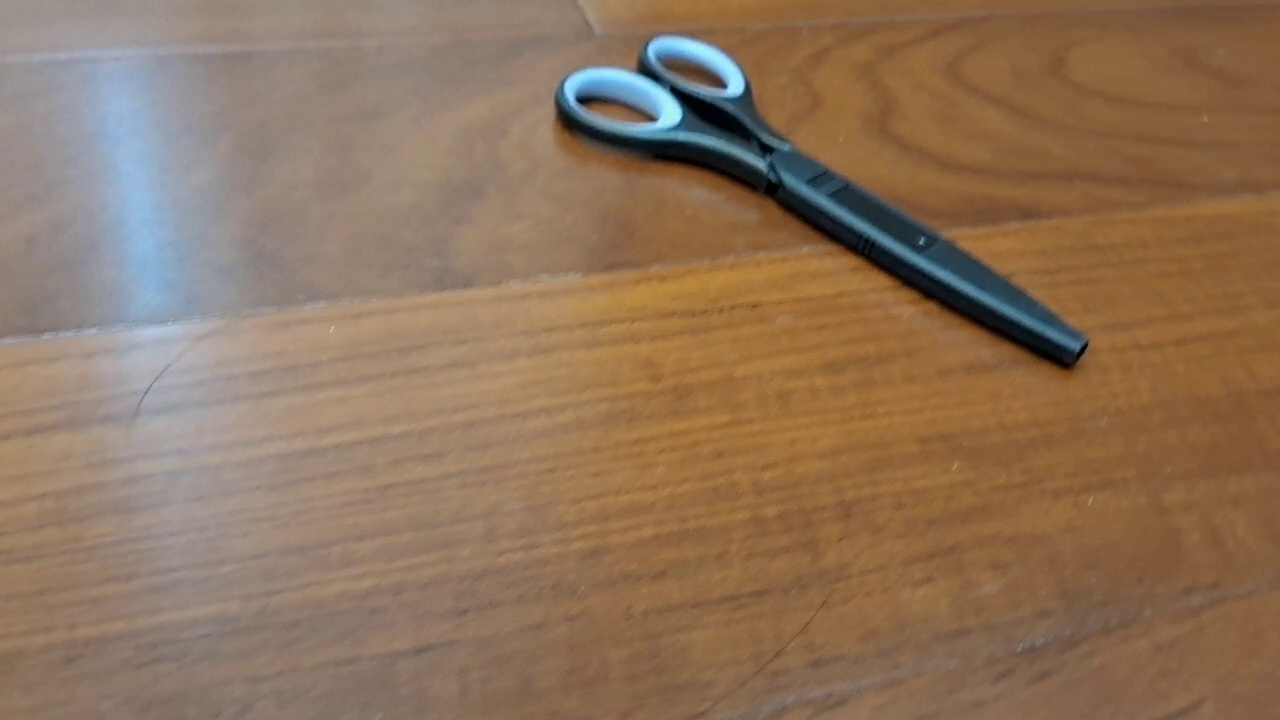scissors: (554, 32, 1090, 372)
